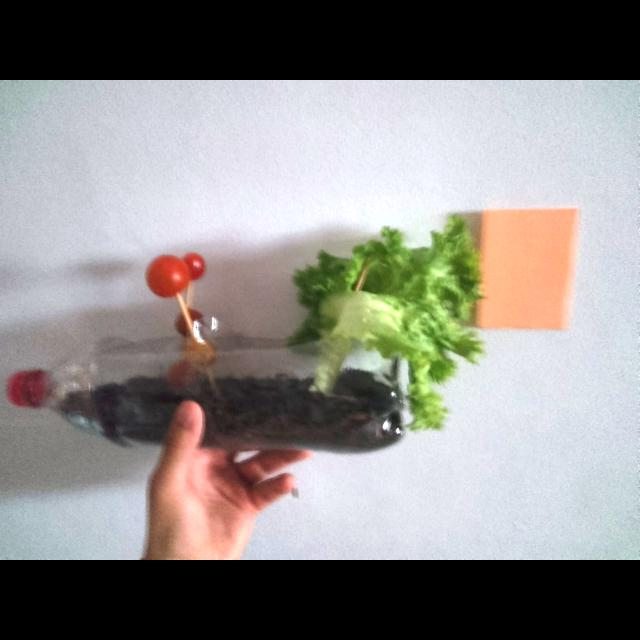card: (476, 210, 578, 328)
fully_grown: (146, 254, 204, 297)
